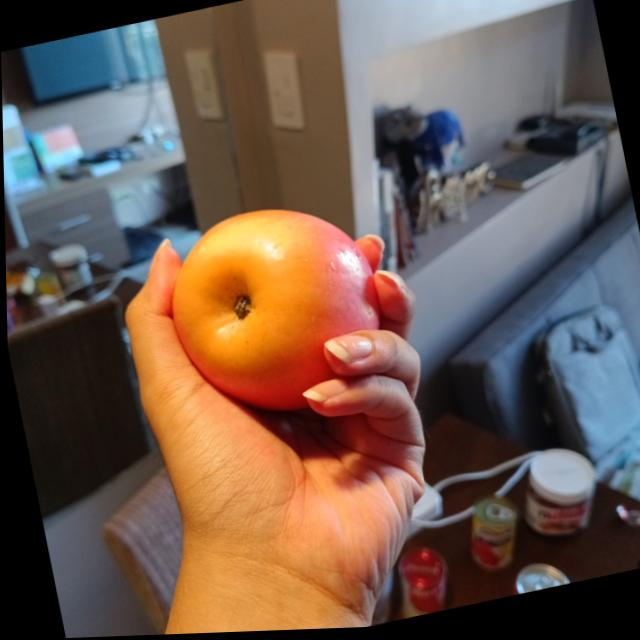apple: (154, 192, 393, 431)
